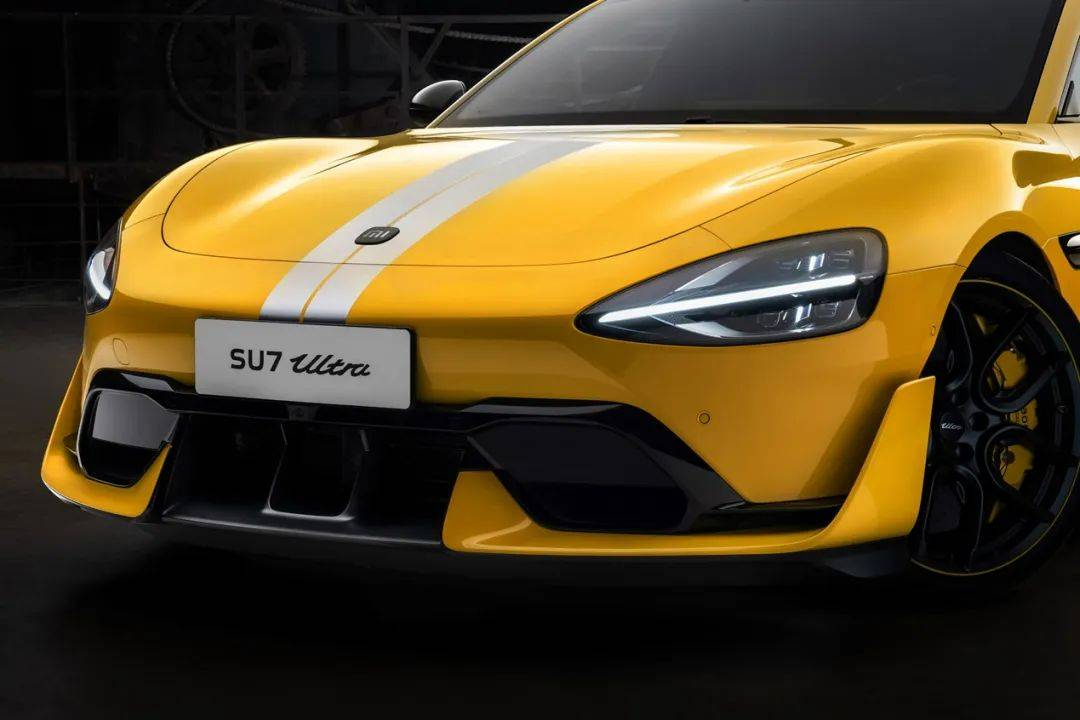su7: (46, 2, 1080, 586)
